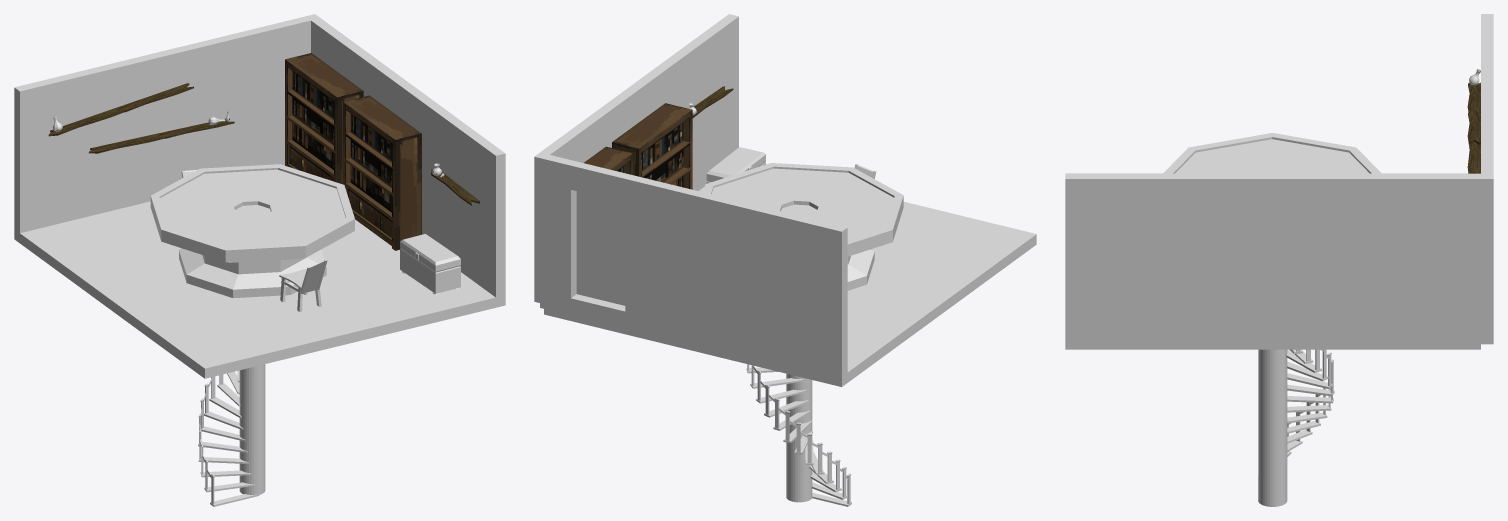
The model's file is Level-4.fbx.
3 renders of one model, left to right at view 1: azimuth 30°, elevation 25°; view 2: azimuth 150°, elevation 25°; view 3: azimuth 270°, elevation 25°, orthographic. The views are drawn at different scales.
Visible parts, largest first — view 1: Interior.001, Table_Stone_Round.001, Bookshelf.001, Bookshelf, Pole, StairCase, Chest.002, Chair.001, Shelf.001, Shelf.002; view 2: Interior.001, Table_Stone_Round.001, Bookshelf.001, StairCase, Pole, Chest.002, Bookshelf; view 3: Interior.001, Table_Stone_Round.001, Pole, StairCase.
Part boxes in pixels (x1,y1,x2,y2): Interior.001: (14, 14, 505, 378); Table_Stone_Round.001: (150, 164, 354, 298); Bookshelf.001: (343, 95, 421, 250); Bookshelf: (285, 53, 363, 184); Pole: (239, 364, 265, 494); StairCase: (198, 370, 259, 506); Chest.002: (400, 234, 460, 294); Chair.001: (279, 260, 327, 311); Shelf.001: (117, 83, 193, 112); Shelf.002: (48, 106, 125, 136); Interior.001: (534, 14, 1036, 386); Table_Stone_Round.001: (703, 163, 903, 290); Bookshelf.001: (612, 103, 692, 189); StairCase: (746, 364, 851, 506); Pole: (786, 373, 812, 502); Chest.002: (706, 147, 765, 183); Bookshelf: (584, 146, 632, 174); Interior.001: (1065, 14, 1493, 349); Table_Stone_Round.001: (1163, 133, 1381, 173); Pole: (1258, 349, 1287, 506); StairCase: (1258, 349, 1334, 501).
Bounding box in the file's own units: 927 × 1077 × 1017.
Materials: 6 (2 with a texture image).
